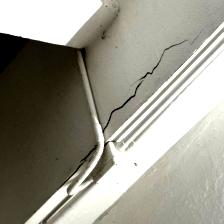High: (57, 39, 204, 204)
